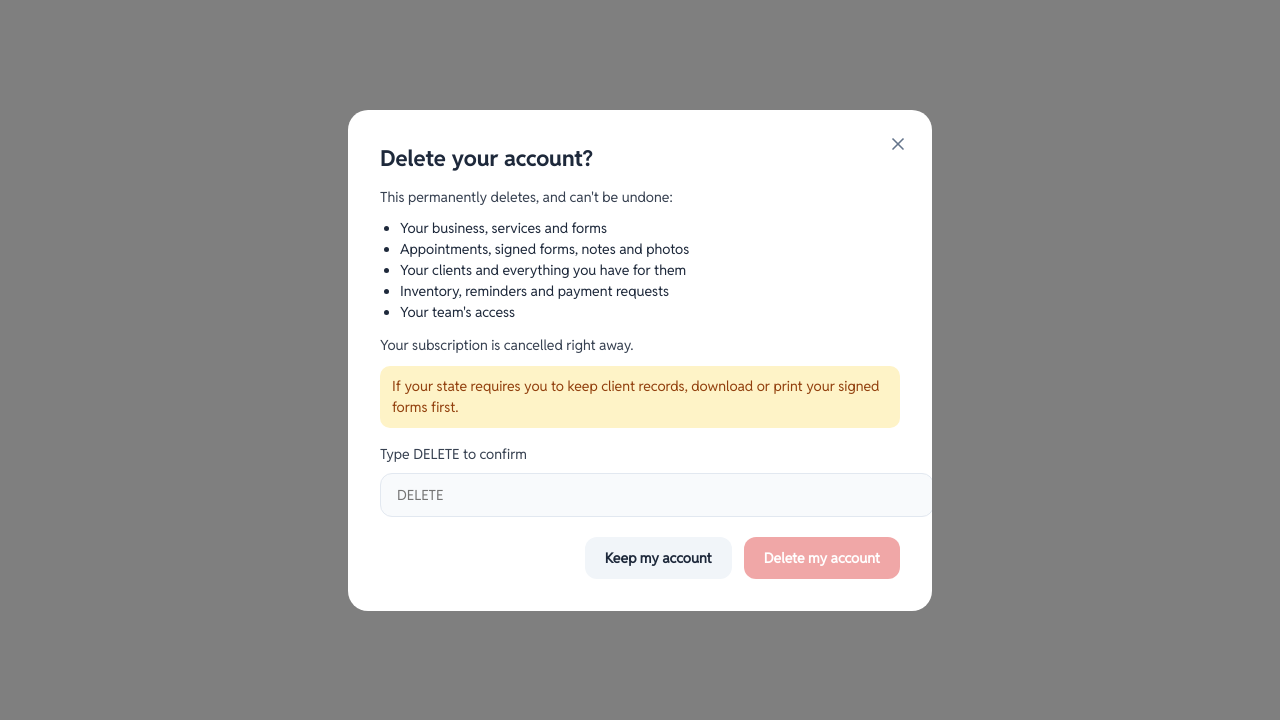
Test case: deleting your account › says what goes, and stays disabled until DELETE is typed
Expected: the dialog "Delete your account?" is shown, [348,110,932,610]
Expected: the text "Your subscription is cancelled right away." is shown, [380,336,633,354]
Type "delet" into the field labelled "Type DELETE to confirm" at (657, 494), box [380,472,934,516]
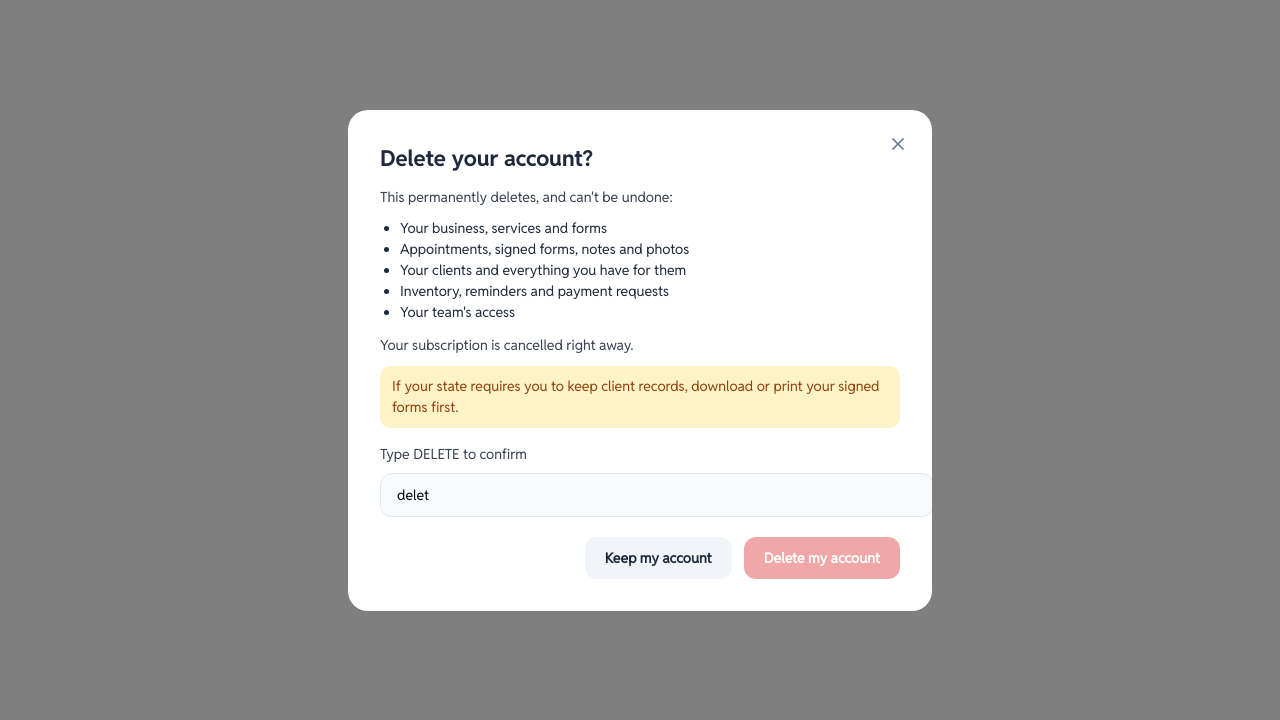
Expected: the button "Delete my account" is disabled, [744,536,900,578]
Replace the text in the field labelled "Type DELETE to confirm" with "delete" at (657, 494), box [380,472,934,516]
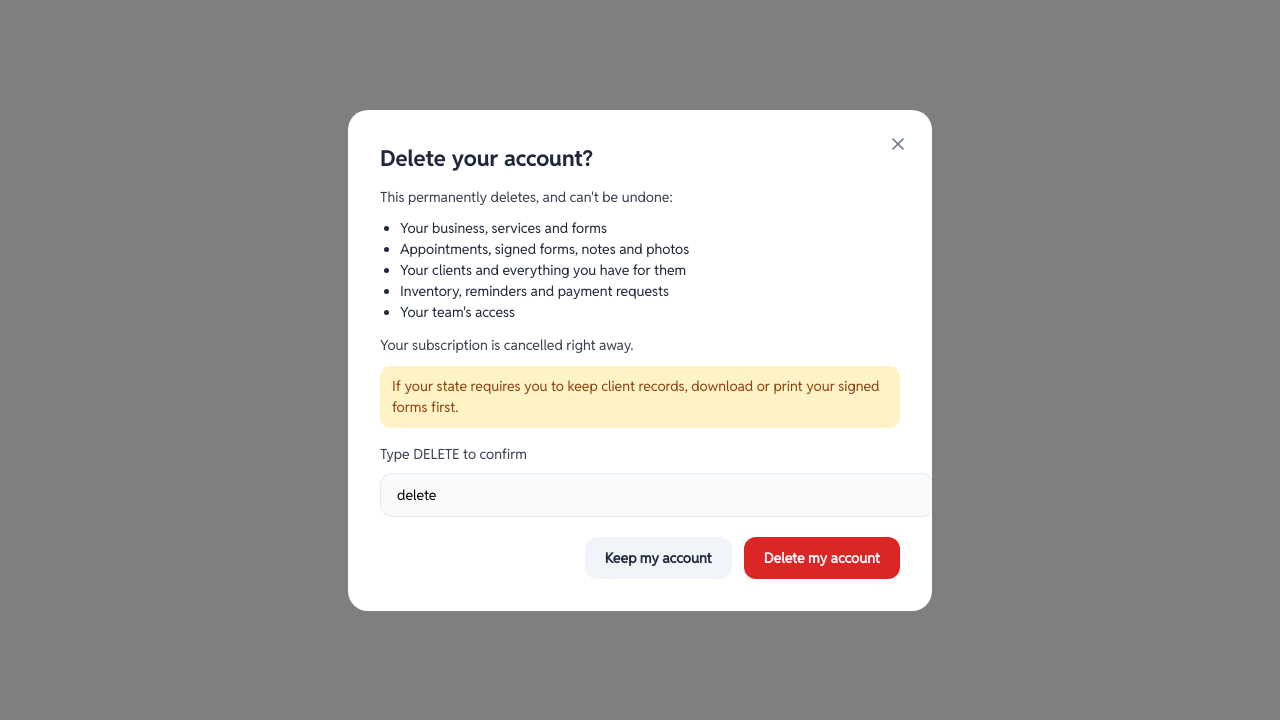
Now the button "Delete my account" is enabled, box [744,536,900,578]
